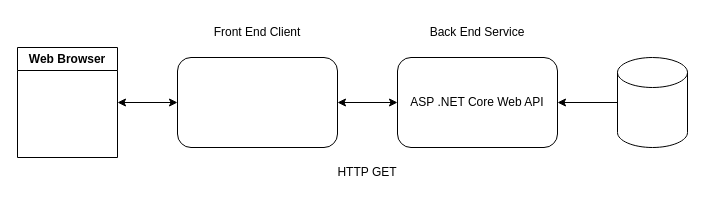
Some shapes in this 705 by 204 pixel diagram are drawn without their labels. Here are the shapes that lost their labels. From the top down, the box of each, then its label:
(176, 56, 338, 148): Angular
(616, 56, 688, 148): "Hello World"
